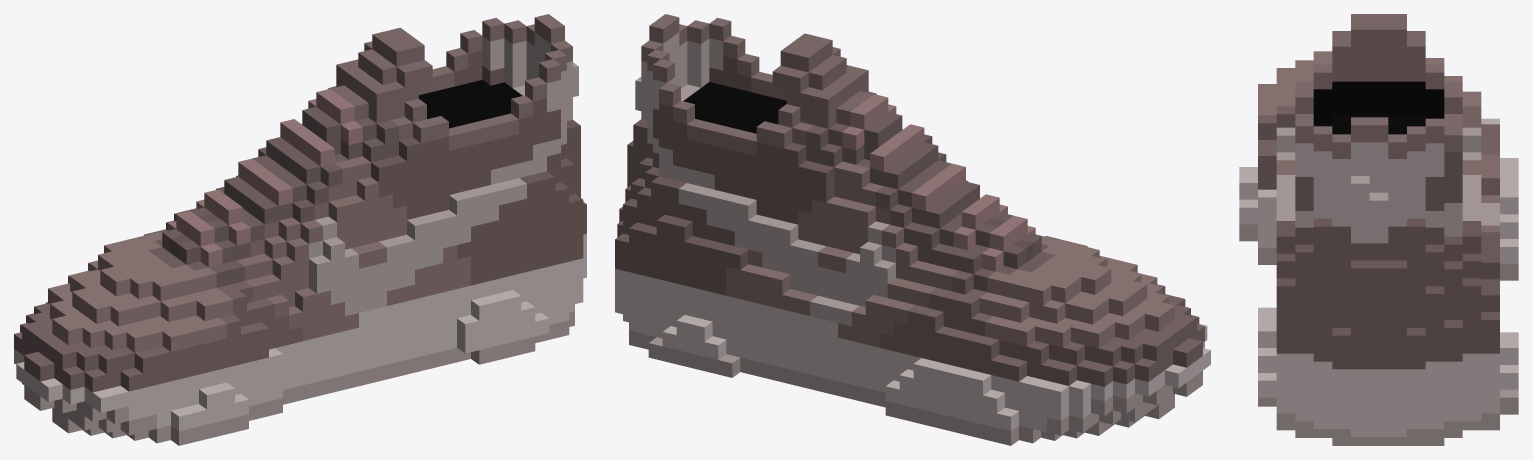
The model's file is Baby Grey.fbx.
The picture shows the model from 3 angles, left to right: view 1: azimuth 30°, elevation 25°; view 2: azimuth 150°, elevation 25°; view 3: azimuth 270°, elevation 25°; orthographic projection. The views are drawn at different scales.
Visible parts, largest first — view 1: Untitled; view 2: Untitled; view 3: Untitled.
Boxes of the visible parts, x1,y1,x2,y2 form: Untitled: [14, 14, 586, 445]; Untitled: [615, 14, 1210, 445]; Untitled: [1239, 14, 1518, 445].
Size of the model in its own units: 390 by 200 by 150.
